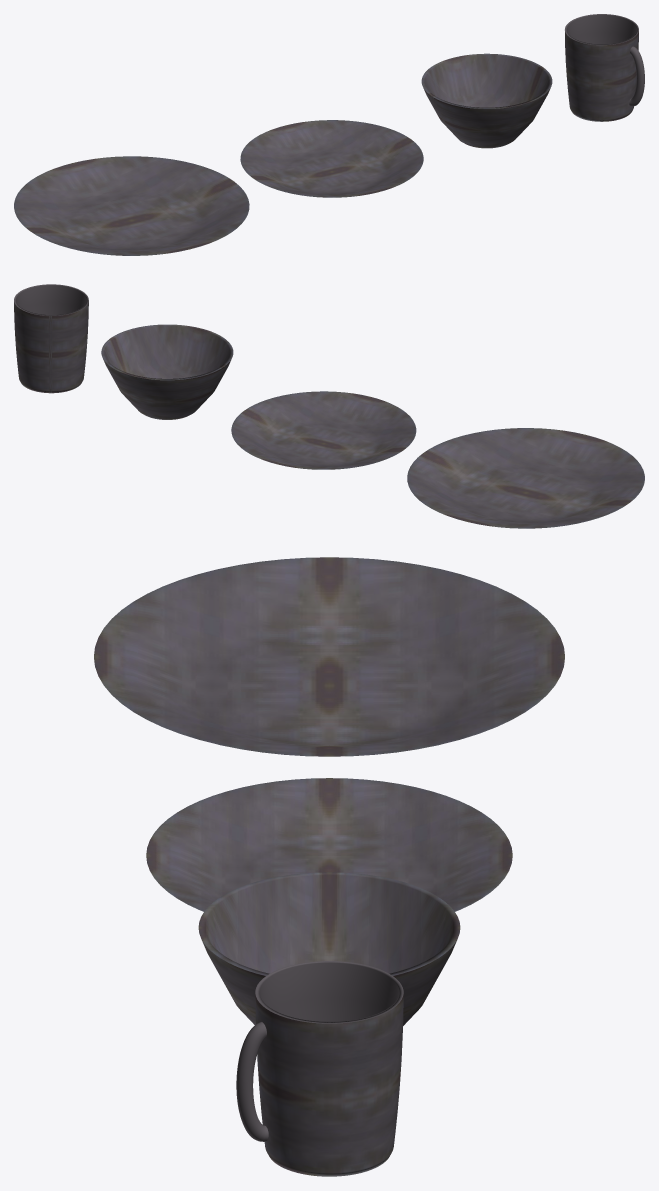
File: GRL-04.glb
3 renders of one model, top to bottom at view 1: azimuth 30°, elevation 25°; view 2: azimuth 150°, elevation 25°; view 3: azimuth 270°, elevation 25°, orthographic. The views are drawn at different scales.
Size of the model in its own units: 0.7995 by 0.1 by 0.27.
Materials: 9 (7 with a texture image).
